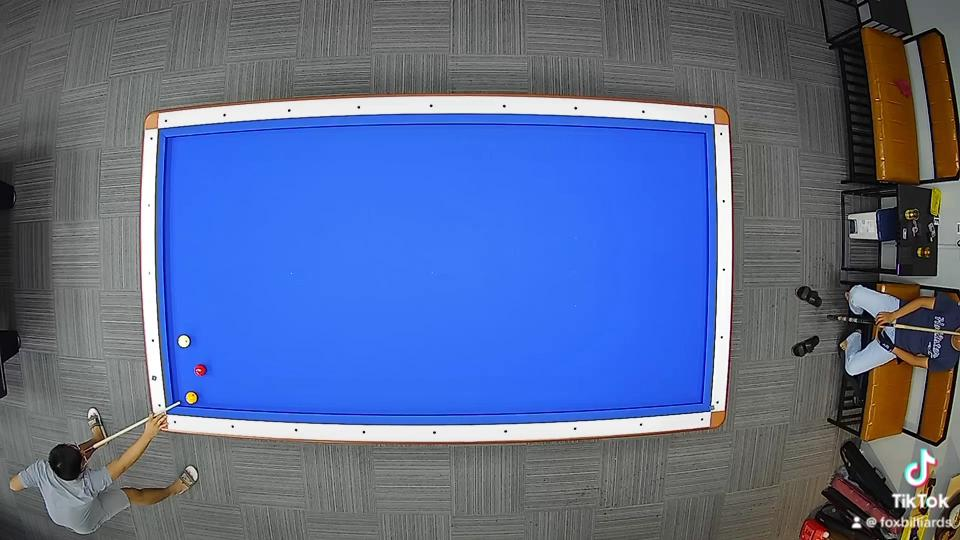Red: (194, 363, 208, 378)
White: (176, 334, 192, 350)
Yellow: (184, 391, 199, 406)
